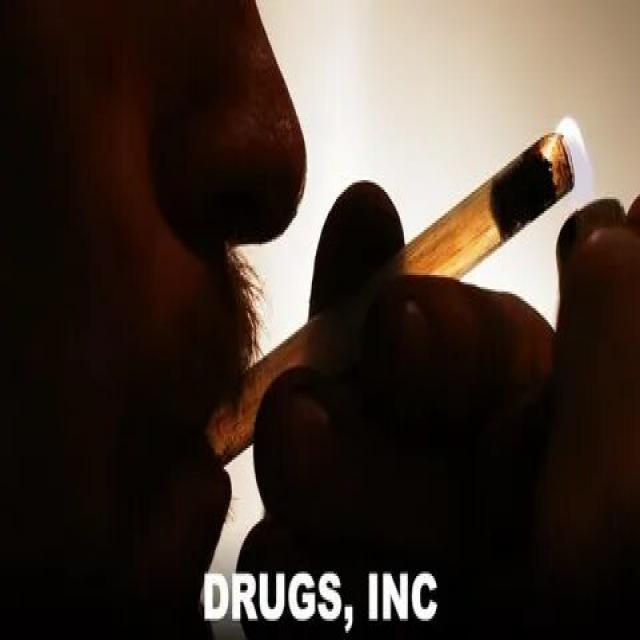smoke: (208, 116, 581, 469)
